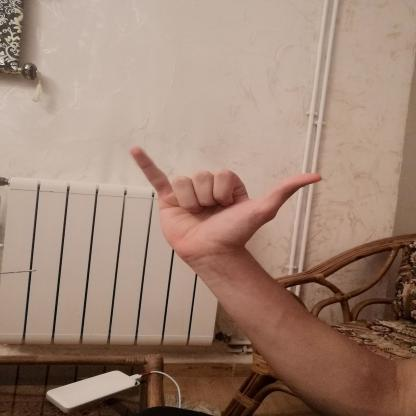YA: (119, 136, 336, 270)
